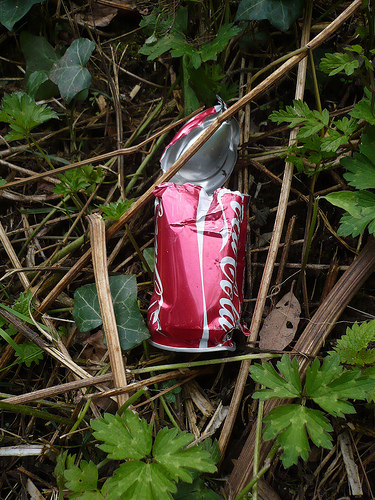litter: (143, 97, 253, 353)
